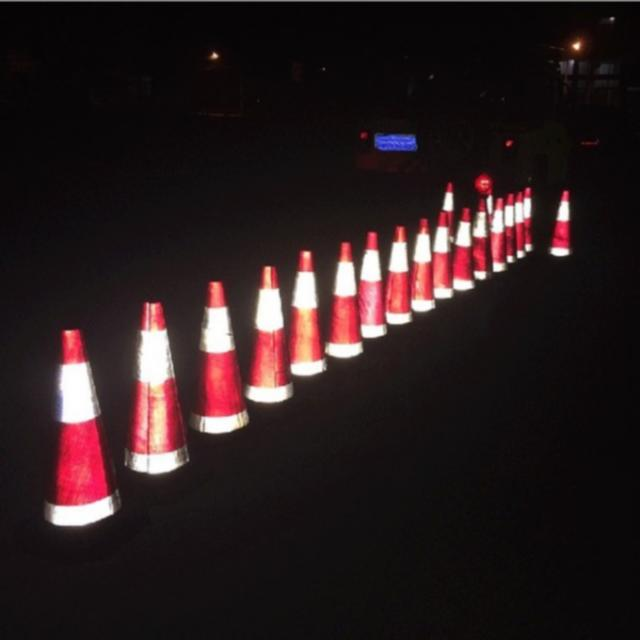car: (350, 112, 435, 177)
reflective_cone: (36, 324, 124, 529), (125, 302, 197, 482), (185, 280, 252, 442), (242, 266, 296, 410), (284, 248, 327, 382), (325, 243, 368, 366), (379, 224, 414, 332), (354, 228, 386, 342), (408, 216, 442, 318), (539, 188, 577, 264), (447, 206, 476, 293), (429, 211, 455, 308), (470, 197, 494, 284), (486, 195, 507, 278), (502, 192, 516, 268)
